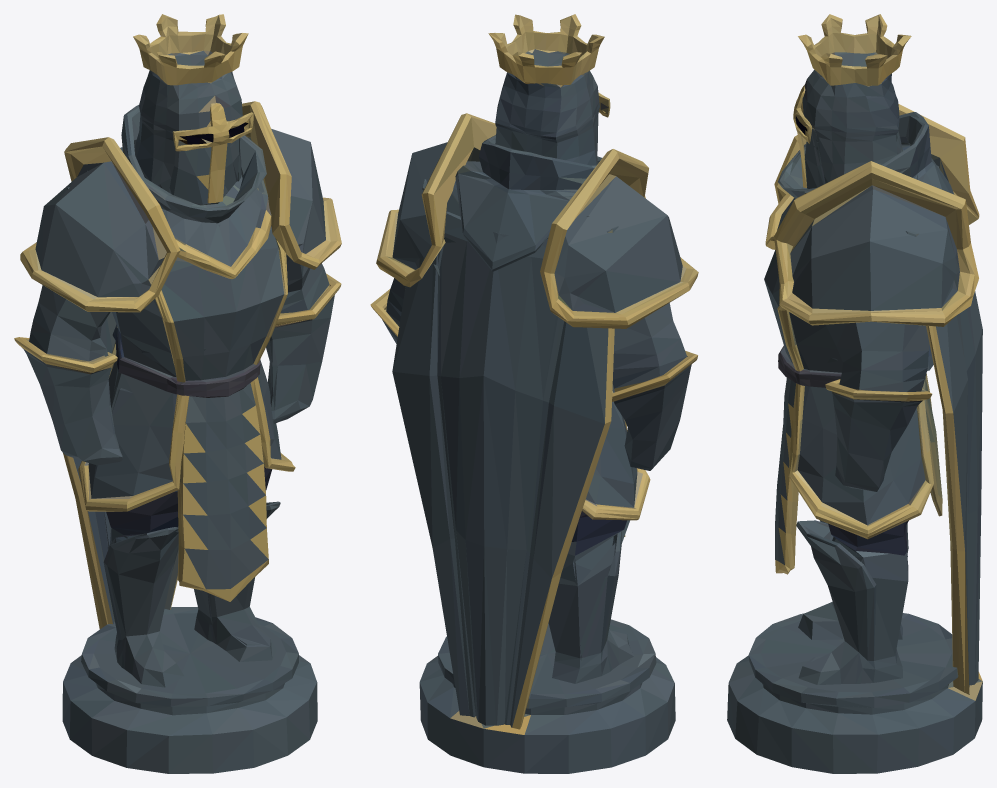
File: chevalier.glb
3 renders of one model, left to right at view 1: azimuth 30°, elevation 25°; view 2: azimuth 150°, elevation 25°; view 3: azimuth 270°, elevation 25°, orthographic.
Visible parts, largest first — view 1: mesh_node; view 2: mesh_node; view 3: mesh_node.
Part boxes in pixels (x1=…): mesh_node: x1=14, y1=14, x2=341, y2=773; mesh_node: x1=370, y1=14, x2=698, y2=773; mesh_node: x1=727, y1=14, x2=982, y2=773.
Bounding box in the file's own units: 0.459 × 1 × 0.3379.
